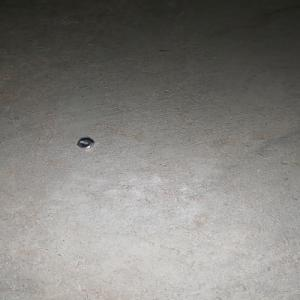Nut: (77, 138, 95, 149)
